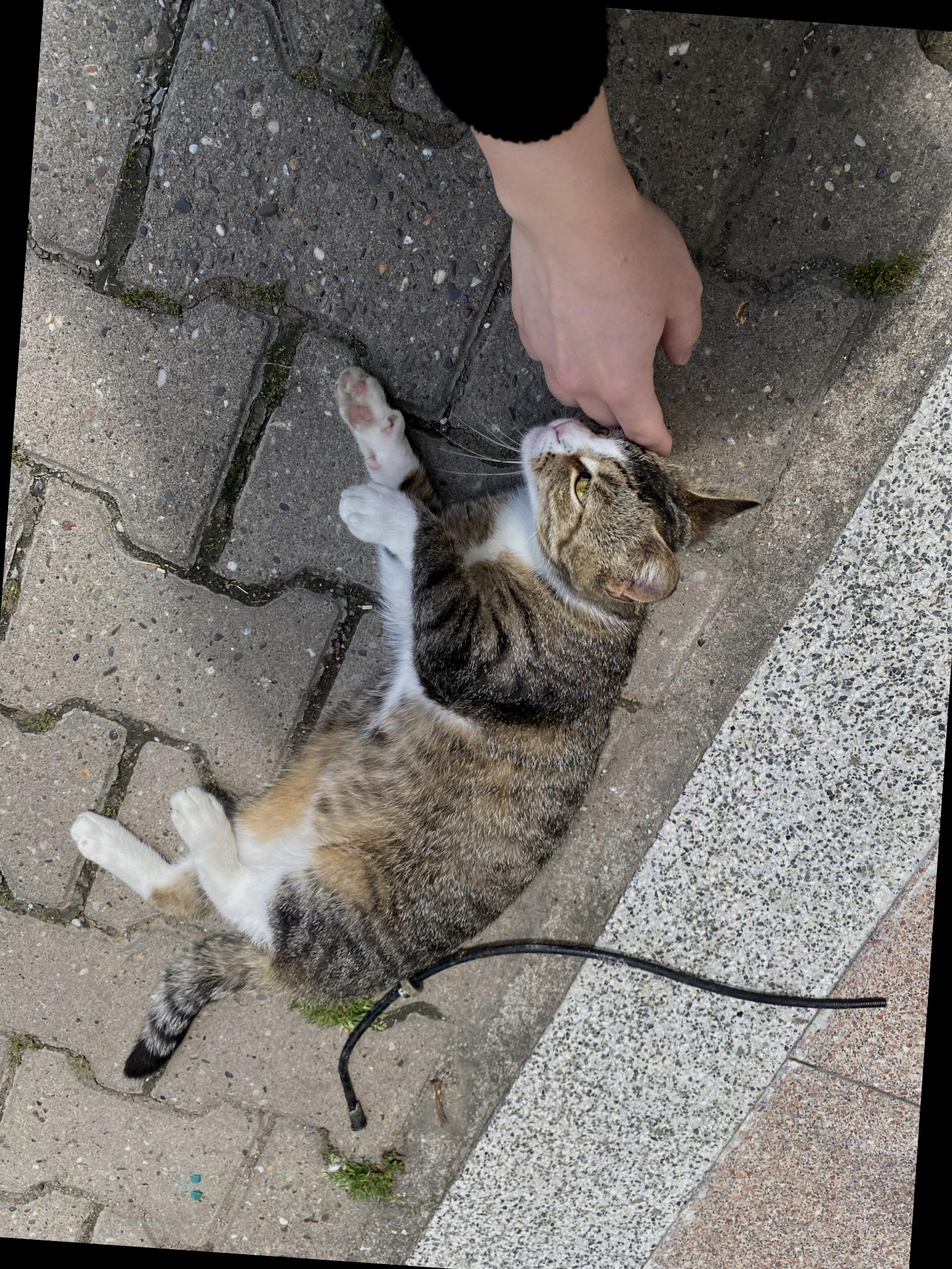macka: (55, 350, 762, 1121)
